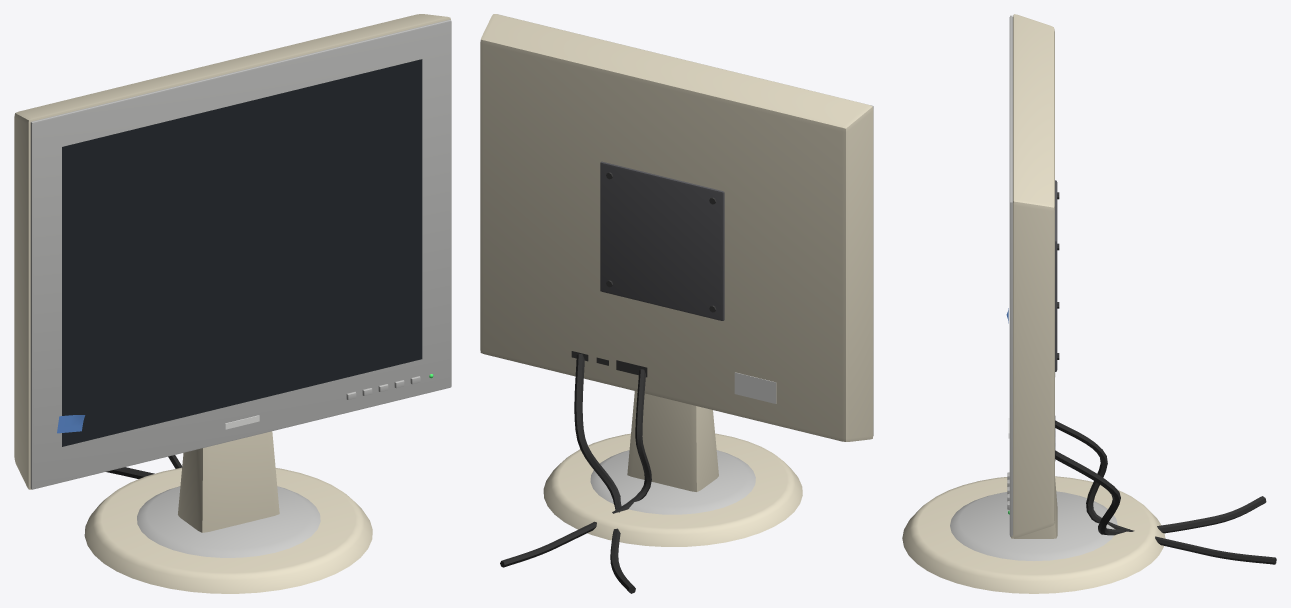
File: electronics_monitor_b.fbx
3 views of the same model, side by side, from view 1: azimuth 30°, elevation 25°; view 2: azimuth 150°, elevation 25°; view 3: azimuth 270°, elevation 25° (orthographic). The views are drawn at different scales.
Visible parts, largest first — view 1: screen, electronics_monitor_b_body; view 2: electronics_monitor_b_body; view 3: electronics_monitor_b_body.
Boxes of the visible parts, bbox=[...] form: screen: bbox=[62, 59, 422, 446]; electronics_monitor_b_body: bbox=[14, 14, 451, 593]; electronics_monitor_b_body: bbox=[480, 14, 873, 593]; electronics_monitor_b_body: bbox=[902, 14, 1276, 593].
Bounding box in the file's own units: 0.3685 × 0.3972 × 0.3099.
